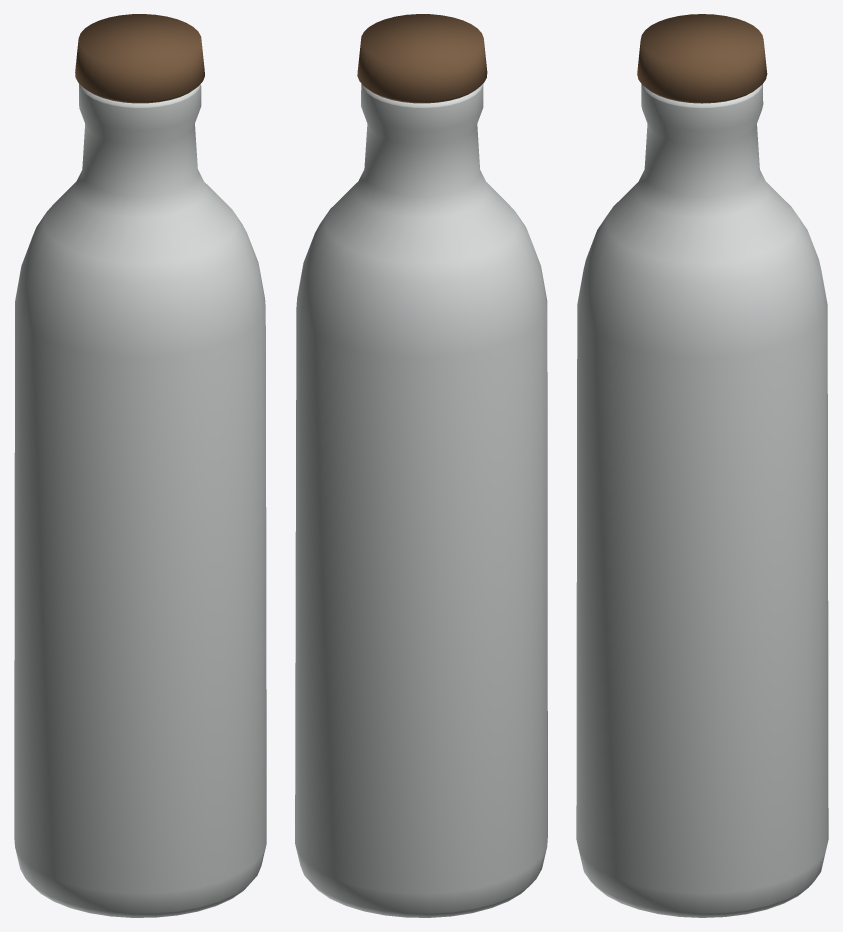
The model's file is bottle_whisky_lod1.glb.
The picture shows the model from 3 angles, left to right: view 1: azimuth 30°, elevation 25°; view 2: azimuth 150°, elevation 25°; view 3: azimuth 270°, elevation 25°; orthographic projection.
Parts seen in each view (by area): view 1: Glass, Cap; view 2: Glass, Cap; view 3: Glass, Cap.
Boxes of the visible parts, box(x1,y1,x2,y2) form: Glass: box(14, 84, 266, 917); Cap: box(75, 14, 204, 103); Glass: box(295, 84, 547, 917); Cap: box(357, 14, 487, 103); Glass: box(576, 84, 828, 917); Cap: box(637, 14, 767, 103).
Bounding box in the file's own units: 0.0762 × 0.2765 × 0.0758.
